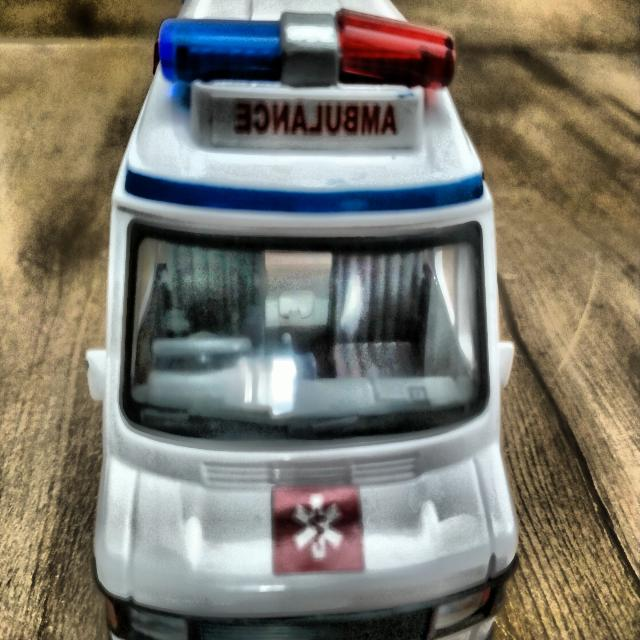Ambulance: (80, 1, 529, 640)
